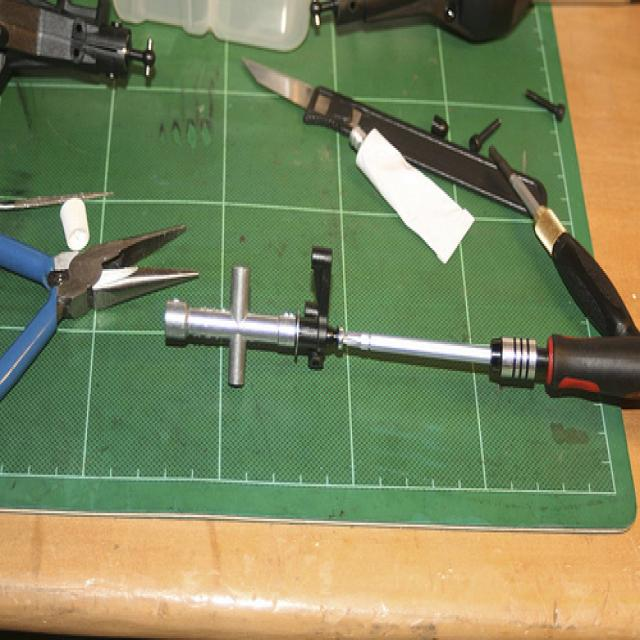screw_driver: (490, 146, 640, 336), (341, 332, 640, 397)
wire_cutter: (0, 226, 197, 399)
